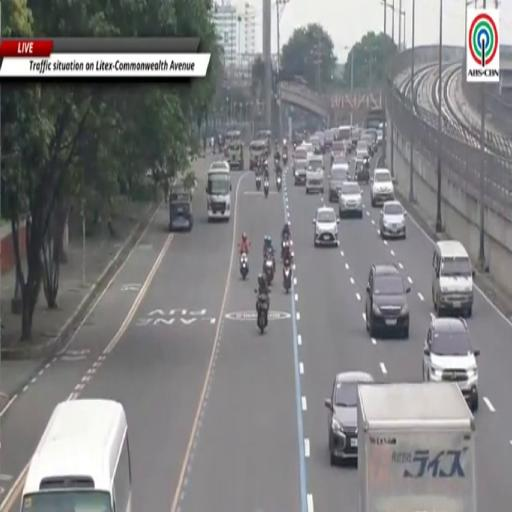bus: (21, 399, 131, 511), (206, 163, 231, 221), (365, 108, 384, 130)
car: (423, 314, 479, 411), (325, 372, 374, 465), (366, 264, 410, 339), (313, 206, 339, 247), (380, 201, 405, 238), (370, 168, 394, 206), (339, 182, 362, 218), (329, 164, 349, 201), (306, 155, 324, 194), (293, 147, 307, 185), (210, 160, 229, 170), (333, 153, 348, 165)
jeepney: (169, 188, 193, 231), (250, 140, 267, 170), (227, 140, 244, 169), (224, 130, 241, 158), (256, 131, 271, 153)
motorcycle: (256, 295, 269, 333), (283, 265, 291, 294), (264, 259, 273, 284), (240, 252, 248, 279), (281, 236, 290, 260), (256, 174, 262, 191), (261, 159, 268, 173), (264, 180, 269, 197), (276, 175, 281, 190), (274, 157, 280, 166), (283, 153, 287, 165)
truck: (357, 382, 476, 511)
